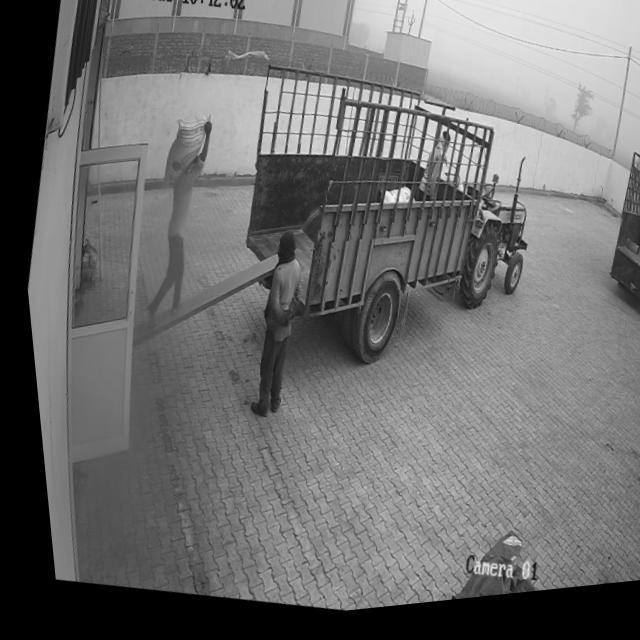sack: (152, 115, 209, 199)
